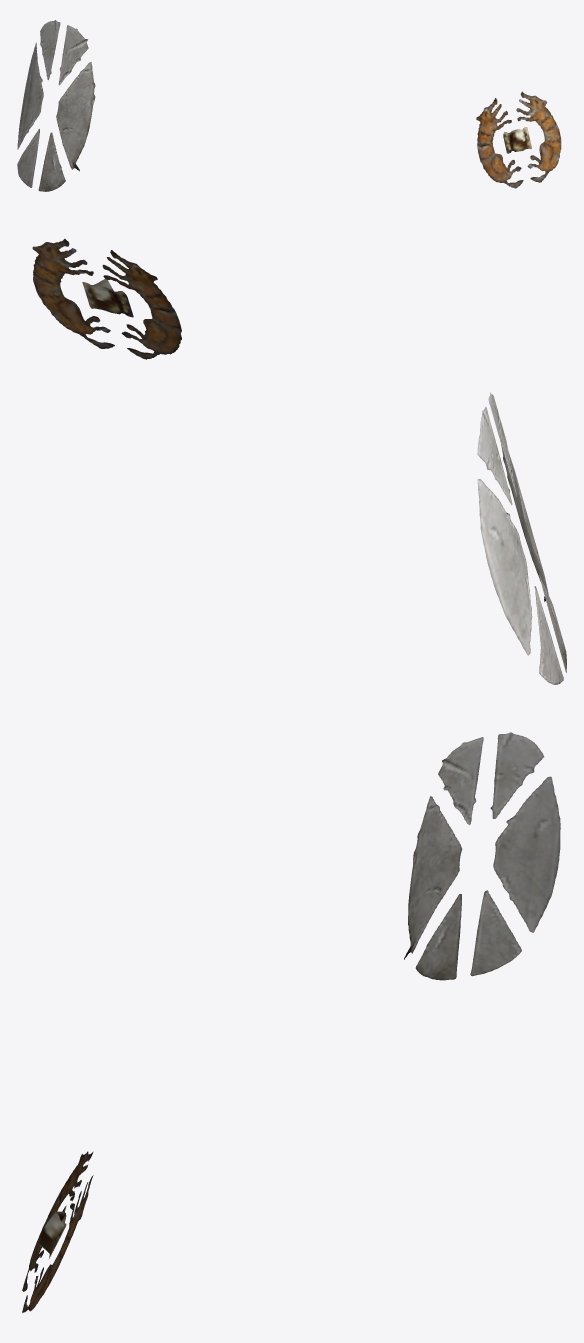
The model's file is rome_st_shields_2.dae.
3 renders of one model, top to bottom at view 1: azimuth 30°, elevation 25°; view 2: azimuth 150°, elevation 25°; view 3: azimuth 270°, elevation 25°, orthographic. The views are drawn at different scales.
Parts seen in each view (by area): view 1: scutum_b01; view 2: scutum_b01; view 3: scutum_b01.
Boxes of the visible parts, left/top/right/bottom form: scutum_b01: left=17, top=20, right=561, bottom=191; scutum_b01: left=32, top=238, right=566, bottom=684; scutum_b01: left=22, top=732, right=560, bottom=1312.
Bounding box in the file's own units: 7.24 × 4.5 × 2.62.
